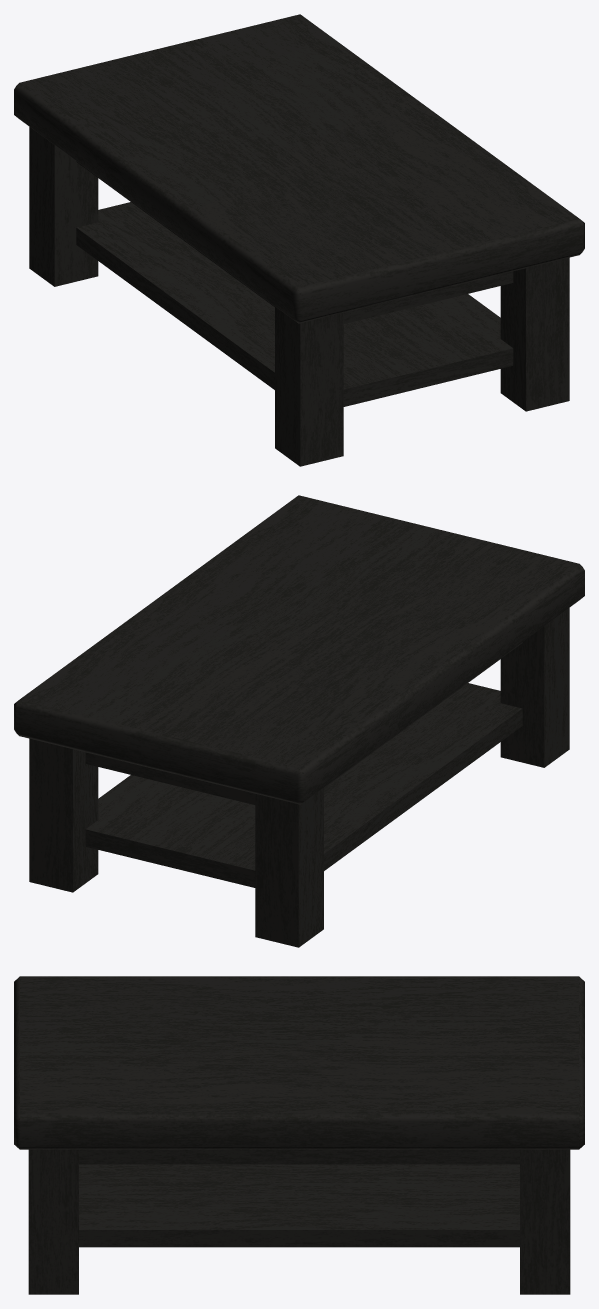
File: coffee_table_009.fbx
3 views of the same model, one above another, from view 1: azimuth 30°, elevation 25°; view 2: azimuth 150°, elevation 25°; view 3: azimuth 270°, elevation 25° (orthographic).
Parts seen in each view (by area): view 1: coffee_table_009; view 2: coffee_table_009; view 3: coffee_table_009.
Part boxes in pixels (x1,y1,x2,y2): coffee_table_009: (14,14,584,466); coffee_table_009: (14,495,584,947); coffee_table_009: (14,976,584,1294).
Bounding box in the file's own units: 89.98 × 153 × 54.26.
